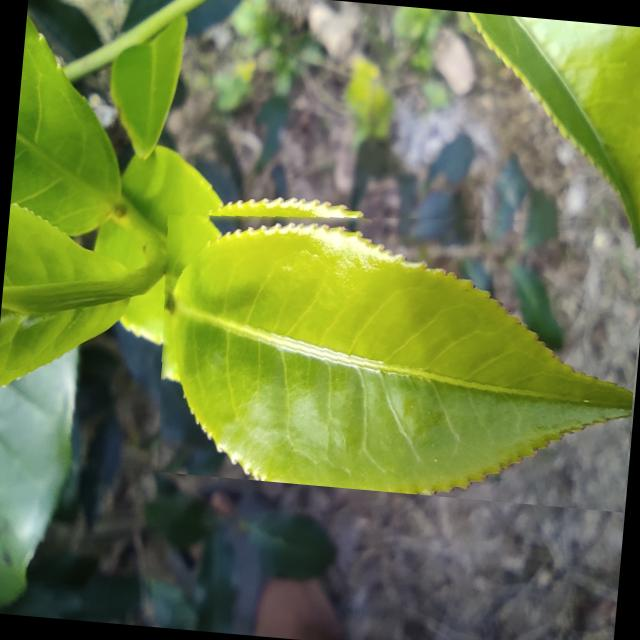Category B(2-4 days): (144, 179, 640, 512)
